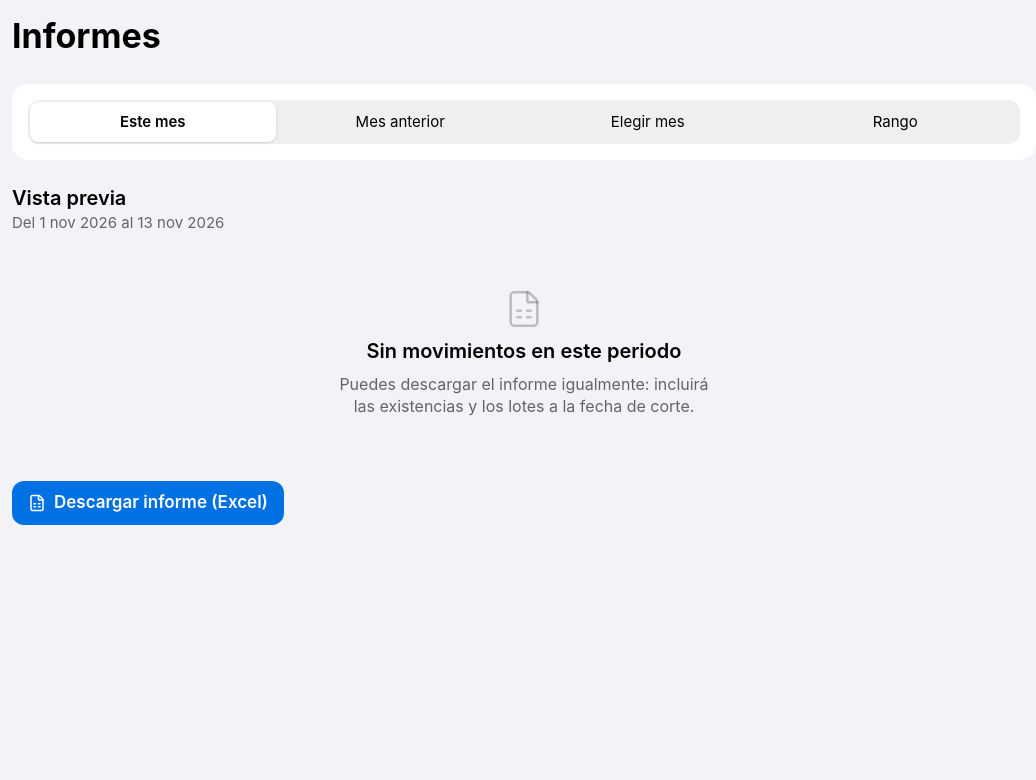
Test: ReportsPage › rejects an inverted range and disables the download
The image size is (1036, 780).
Click the radio button labelled "Rango" at (895, 122), box [772, 102, 1018, 142]
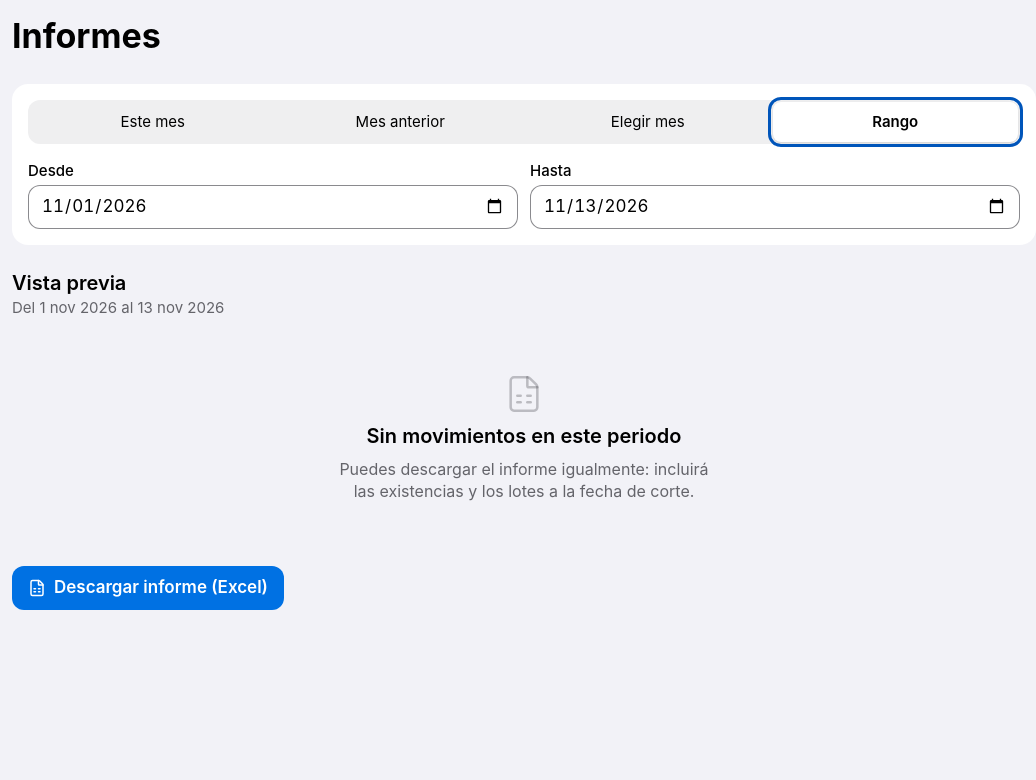
Type "2026-11-20" into the date field labelled "Desde" at (273, 207), box [28, 185, 518, 229]
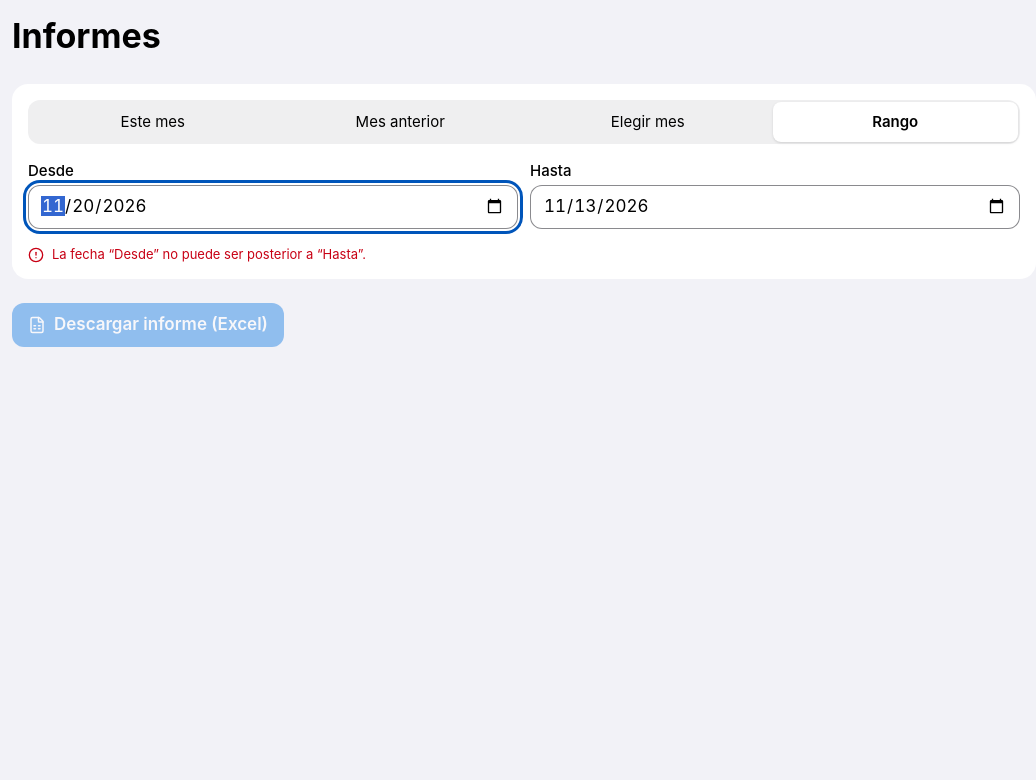
Check: the heading "Vista previa" is not shown
Check: the button "Descargar informe (Excel)" is disabled, box [12, 303, 284, 347]
Check: the message shows "“Desde” no puede ser posterior a “Hasta”", box [52, 246, 366, 262]
